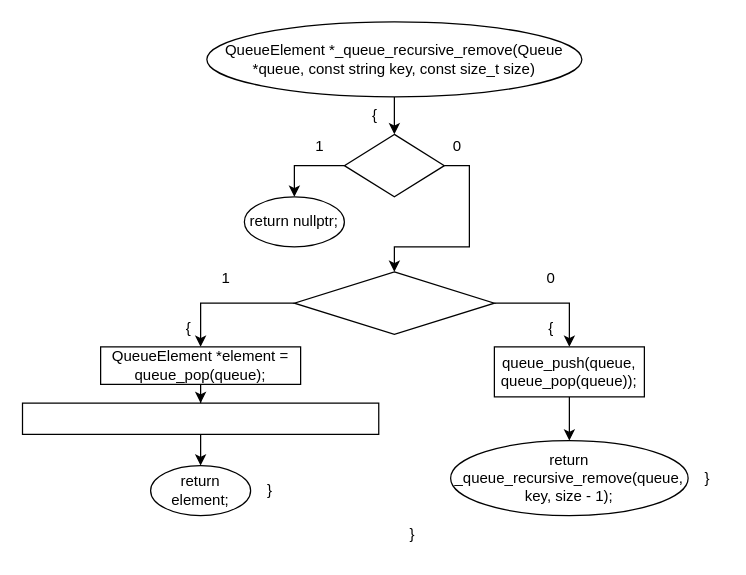
Image size: 746x575. Some labels were removed from this diagram. Each missing label, with the centre of its shape:
_queue_recursive_remove(queue, key, size - 1);: [200,418]
if (queue->first->key == key): [393,302]
if (size == 0): [393,165]
